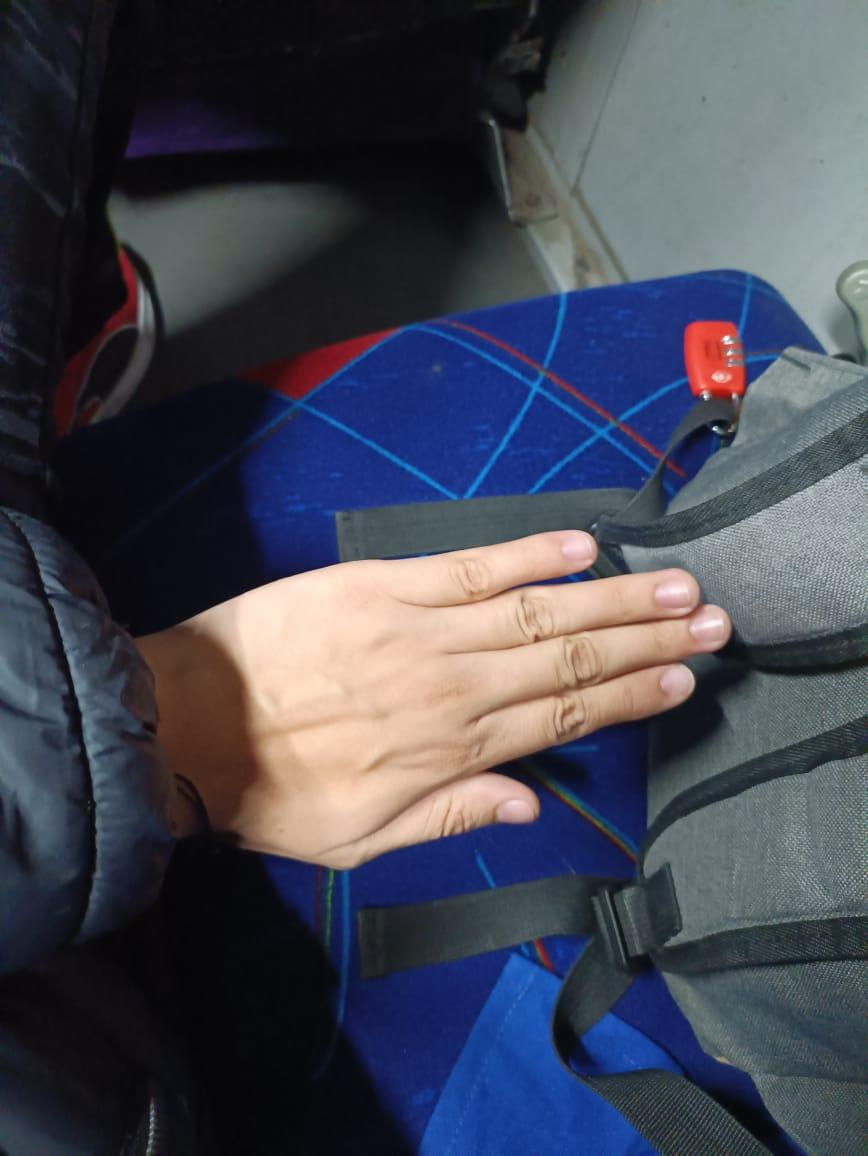Paper: (105, 510, 792, 885)
